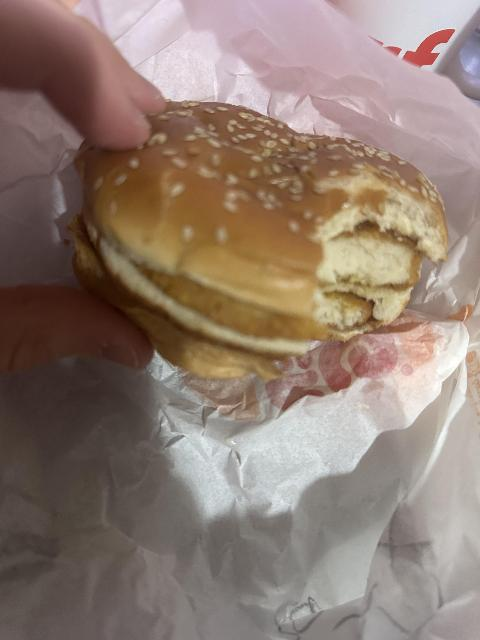Organik: (68, 106, 441, 346)
